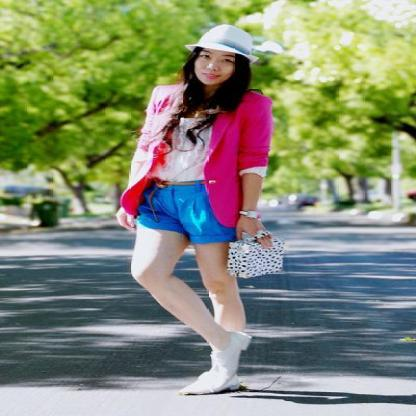bag: (228, 230, 282, 275)
hat: (187, 25, 260, 55)
jacket: (116, 84, 276, 224)
shirt: (162, 111, 211, 182)
shoe: (187, 329, 253, 398)
shorts: (137, 180, 236, 248)
